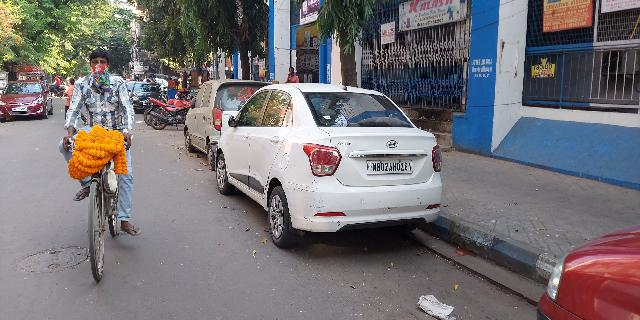Car: (212, 80, 451, 243), (182, 83, 258, 157), (1, 77, 55, 123)
Cycle: (50, 48, 141, 289)
Motorbike: (143, 90, 188, 126)
